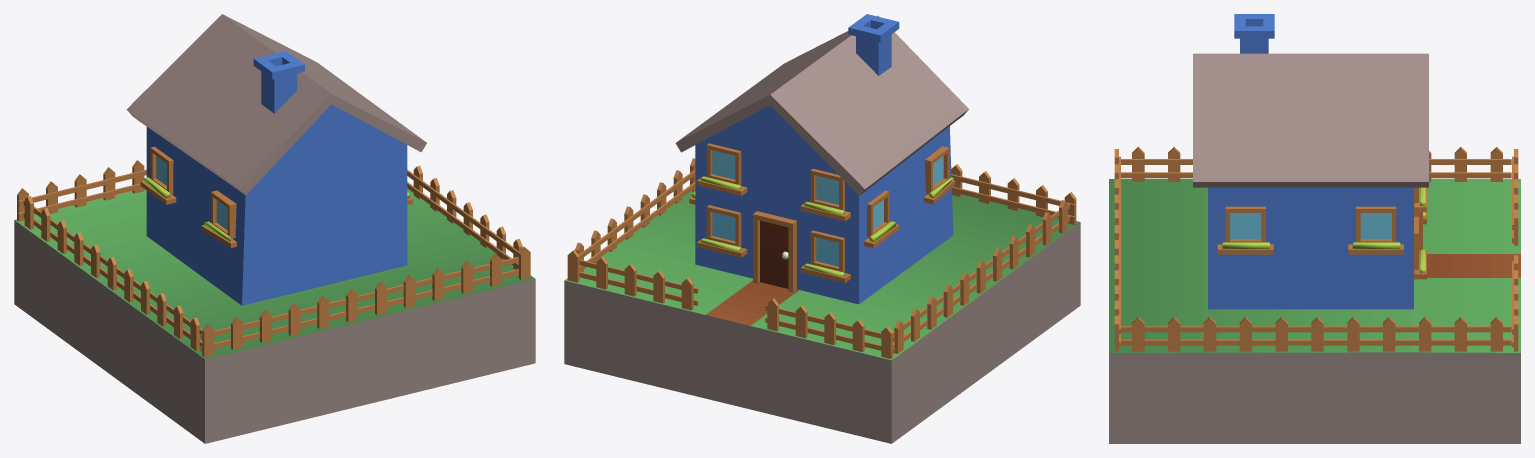
The model's file is Blue_House.fbx.
3 views of the same model, side by side, from view 1: azimuth 30°, elevation 25°; view 2: azimuth 150°, elevation 25°; view 3: azimuth 270°, elevation 25° (orthographic). The views are drawn at different scales.
Parts seen in each view (by area): view 1: Blue_House; view 2: Blue_House; view 3: Blue_House.
Boxes of the visible parts, left/top/right/bottom form: Blue_House: left=14, top=14, right=535, bottom=443; Blue_House: left=564, top=14, right=1080, bottom=443; Blue_House: left=1109, top=14, right=1520, bottom=443.
Bounding box in the file's own units: 400 × 345 × 400.
